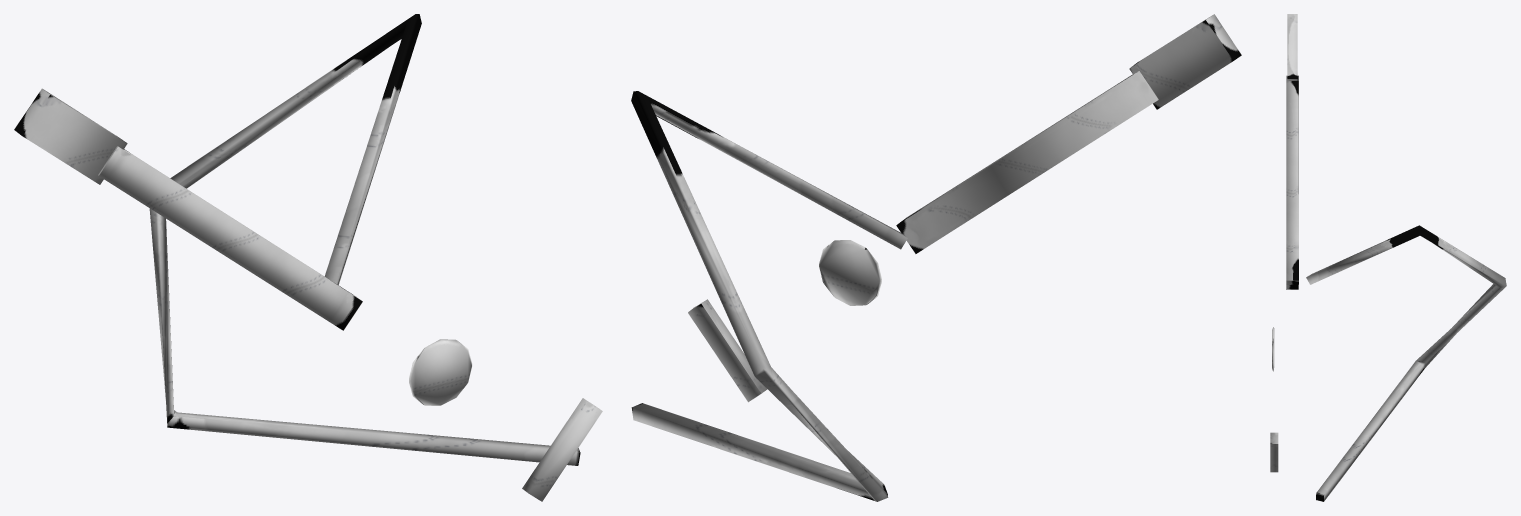
File: Guitarra_UpperTorso_C2.fbx
3 views of the same model, side by side, from view 1: azimuth 30°, elevation 25°; view 2: azimuth 150°, elevation 25°; view 3: azimuth 270°, elevation 25° (orthographic). The views are drawn at different scales.
Parts seen in each view (by area): view 1: Civ_Guitarra_UpperTorso_C2; view 2: Civ_Guitarra_UpperTorso_C2; view 3: Civ_Guitarra_UpperTorso_C2.
Boxes of the visible parts, box(x1,y1,x2,y2) form: Civ_Guitarra_UpperTorso_C2: box(14, 14, 602, 501); Civ_Guitarra_UpperTorso_C2: box(631, 14, 1241, 501); Civ_Guitarra_UpperTorso_C2: box(1270, 14, 1506, 501).
Size of the model in its own units: 3.26 by 2.79 by 1.86.
